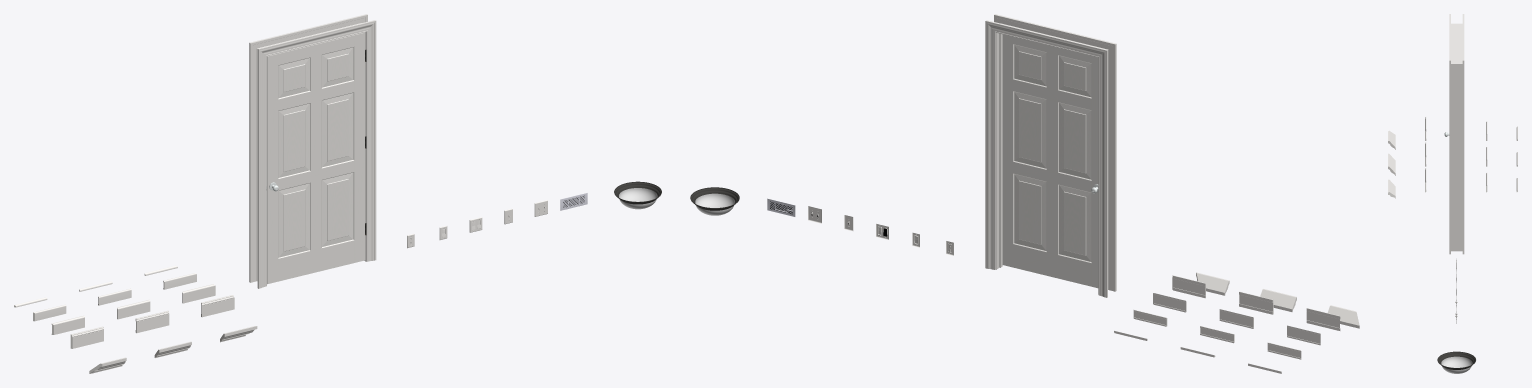
The model's file is interior_trim_assets.fbx.
3 views of the same model, side by side, from view 1: azimuth 30°, elevation 25°; view 2: azimuth 150°, elevation 25°; view 3: azimuth 270°, elevation 25° (orthographic). The views are drawn at different scales.
Parts seen in each view (by area): view 1: Door Six Panel, Casing.002, Casing, Casing.005, Casing.001, Ceiling Light, Casing.004, Baseboard 5", Baseboard 5" Inside, Baseboard 5" Outside; view 2: Door Six Panel, Casing.003, Casing.005, Casing, Casing.004, Door Jamb.002, Ceiling Light, Casing.001, Door Stop.002, Baseboard 5", Baseboard 5" Inside; view 3: Door Jamb.002, Ceiling Light, Casing.003, Door Jamb.001, Casing.002, Casing.004, Crown Molding.
Part boxes in pixels (box(x1,y1,x2,y2)): Door Six Panel: box(267, 32, 365, 284); Casing.002: box(366, 21, 376, 261); Casing: box(257, 49, 266, 288); Casing.005: box(249, 43, 257, 282); Casing.001: box(258, 20, 375, 55); Ceiling Light: box(614, 181, 661, 209); Casing.004: box(250, 14, 367, 48); Baseboard 5": box(135, 310, 169, 333); Baseboard 5" Inside: box(70, 326, 103, 348); Baseboard 5" Outside: box(201, 295, 234, 317); Door Six Panel: box(1002, 34, 1098, 288); Casing.003: box(985, 21, 995, 269); Casing.005: box(1098, 50, 1107, 297); Casing: box(1108, 44, 1116, 291); Casing.004: box(986, 20, 1107, 57); Door Jamb.002: box(995, 33, 999, 269); Ceiling Light: box(690, 187, 739, 215); Casing.001: box(994, 14, 1115, 49); Door Stop.002: box(999, 33, 1002, 267); Baseboard 5": box(1239, 291, 1273, 314); Baseboard 5" Inside: box(1306, 308, 1340, 330); Door Jamb.002: box(1451, 65, 1462, 251); Ceiling Light: box(1437, 351, 1475, 373); Casing.003: box(1462, 60, 1464, 254); Door Jamb.001: box(1451, 23, 1462, 65); Casing.002: box(1449, 60, 1450, 254); Casing.004: box(1462, 14, 1464, 60); Crown Molding: box(1388, 153, 1395, 175).
Bounding box in the file's own units: 567 × 228 × 130.
